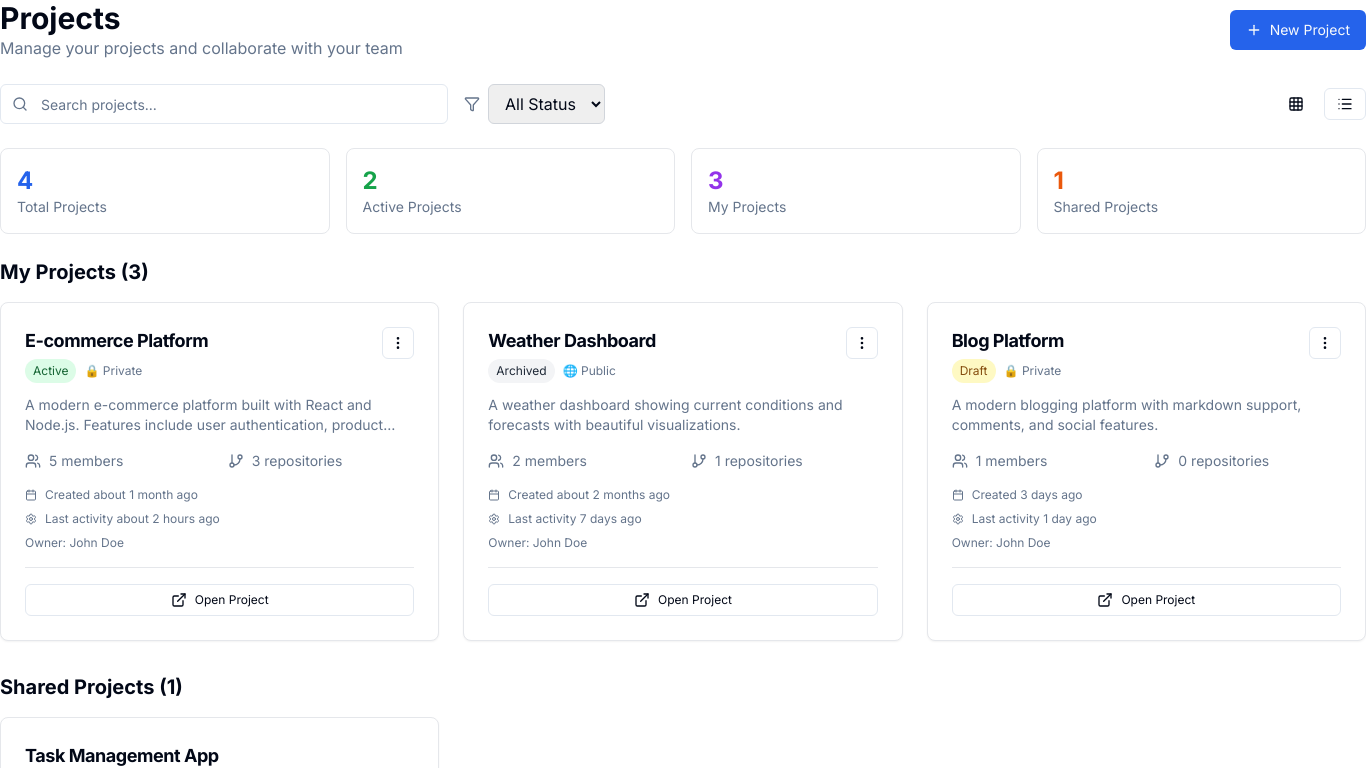
Test case: Projects Page › should open create project modal when New Project is clicked
The image size is (1366, 768).
Click the button "New Project" at (1298, 30), box x1=1230 y1=10 x2=1365 y2=50
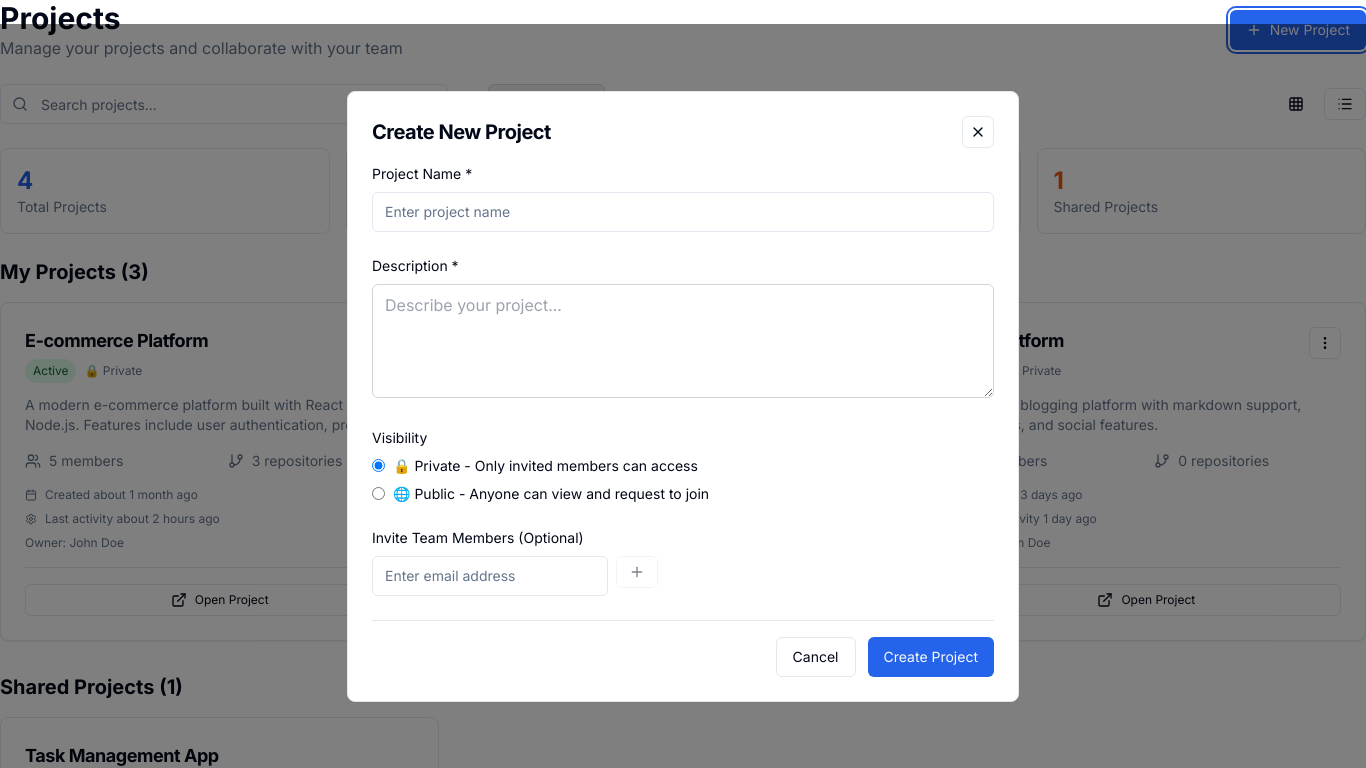
Expected: the heading "Create New Project" is shown, x1=372 y1=118 x2=551 y2=146
